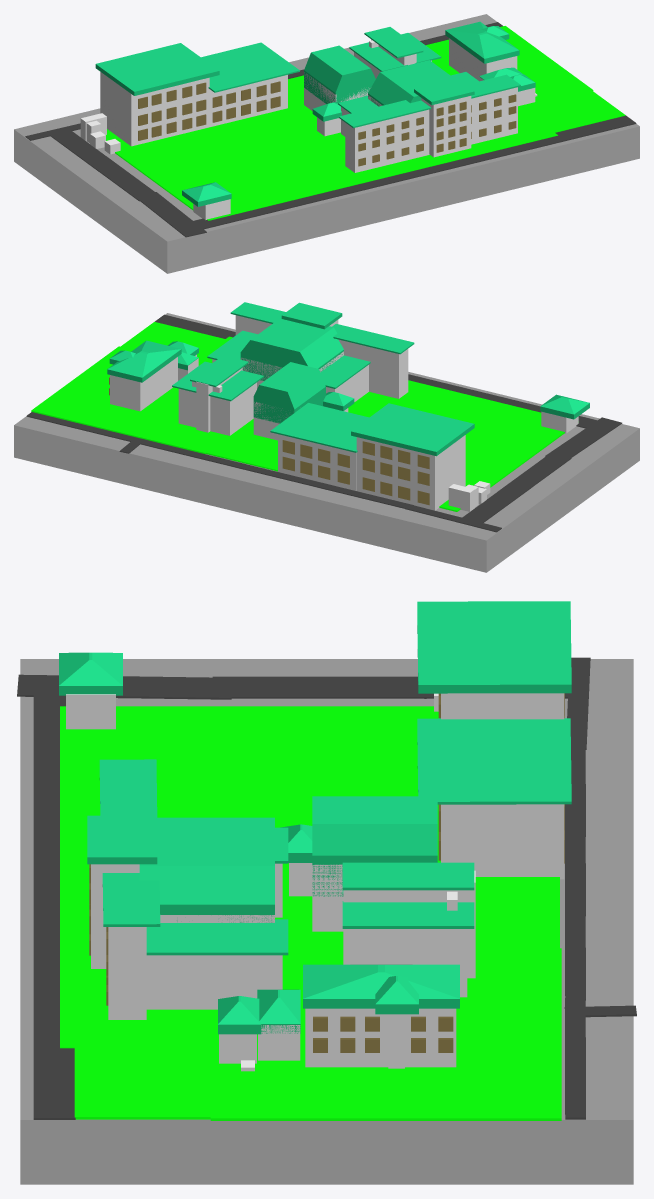
File: map.glb
3 views of the same model, one above another, from view 1: azimuth 30°, elevation 25°; view 2: azimuth 150°, elevation 25°; view 3: azimuth 270°, elevation 25° (orthographic). The views are drawn at different scales.
Parts seen in each view (by area): view 1: Cube, Cube.046, Cube.042, Cube.045, Cube.104, Cube.146, Cube.005, Cube.010, Cube.044, Cube.103, Cube.012, Cube.048 (+28 smaller); view 2: Cube, Cube.042, Cube.044, Cube.012, Cube.065, Cube.104, Cube.010, Cube.103, Cube.045, Cube.146, Cube.047, Cube.005 (+34 smaller); view 3: Cube, Cube.044, Cube.042, Cube.045, Cube.097, Cube.104, Cube.103, Cube.065, Cube.046, Cube.047, Cube.010, Cube.013 (+40 smaller).
Boxes of the visible parts, x1=… form: Cube: x1=14, y1=14, x2=639, y2=273; Cube.046: x1=106, y1=108, x2=345, y2=194; Cube.042: x1=121, y1=134, x2=382, y2=220; Cube.045: x1=447, y1=51, x2=625, y2=157; Cube.104: x1=95, y1=43, x2=219, y2=95; Cube.146: x1=100, y1=78, x2=209, y2=146; Cube.005: x1=345, y1=109, x2=429, y2=172; Cube.010: x1=304, y1=45, x2=375, y2=103; Cube.044: x1=426, y1=26, x2=593, y2=106; Cube.103: x1=201, y1=42, x2=299, y2=92; Cube.012: x1=100, y1=72, x2=209, y2=145; Cube.048: x1=270, y1=110, x2=465, y2=198; Cube: x1=14, y1=313, x2=639, y2=572; Cube.042: x1=360, y1=380, x2=564, y2=486; Cube.044: x1=31, y1=346, x2=228, y2=454; Cube.012: x1=356, y1=435, x2=465, y2=510; Cube.065: x1=240, y1=317, x2=343, y2=380; Cube.104: x1=351, y1=403, x2=474, y2=456; Cube.010: x1=253, y1=362, x2=325, y2=423; Cube.103: x1=270, y1=403, x2=369, y2=452; Cube.045: x1=67, y1=322, x2=242, y2=426; Cube.146: x1=356, y1=441, x2=465, y2=510; Cube.047: x1=199, y1=403, x2=379, y2=471; Cube.005: x1=338, y1=339, x2=408, y2=398; Cube: x1=20, y1=659, x2=633, y2=1184; Cube.044: x1=210, y1=948, x2=561, y2=1120; Cube.042: x1=60, y1=706, x2=411, y2=876; Cube.045: x1=74, y1=947, x2=425, y2=1119; Cube.097: x1=60, y1=877, x2=343, y2=1048; Cube.104: x1=417, y1=601, x2=571, y2=693; Cube.103: x1=417, y1=718, x2=571, y2=804; Cube.065: x1=139, y1=817, x2=274, y2=922; Cube.046: x1=195, y1=706, x2=440, y2=875; Cube.047: x1=208, y1=787, x2=559, y2=957; Cube.010: x1=312, y1=796, x2=437, y2=896; Cube.013: x1=441, y1=804, x2=564, y2=879.
Size of what is drawn, in the model's own units: 8.59 by 1.62 by 4.87.
